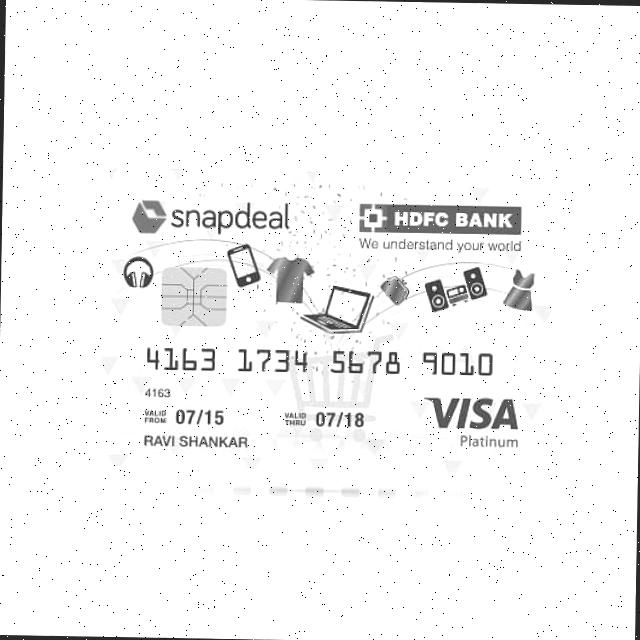card: (97, 156, 569, 490)
